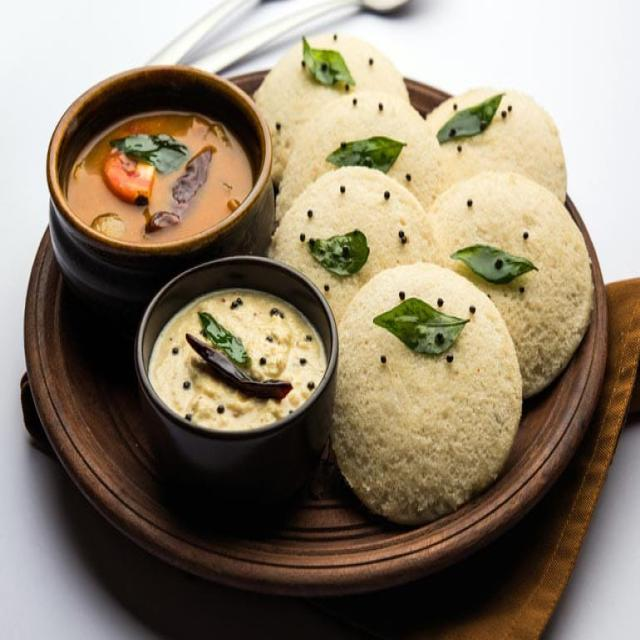rave idli: (324, 256, 531, 538), (423, 168, 610, 408), (263, 148, 443, 309), (255, 13, 406, 152), (413, 73, 567, 190)
